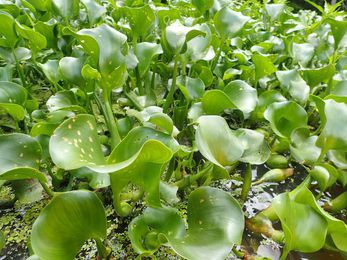water_hyacinth: (3, 23, 347, 259)
